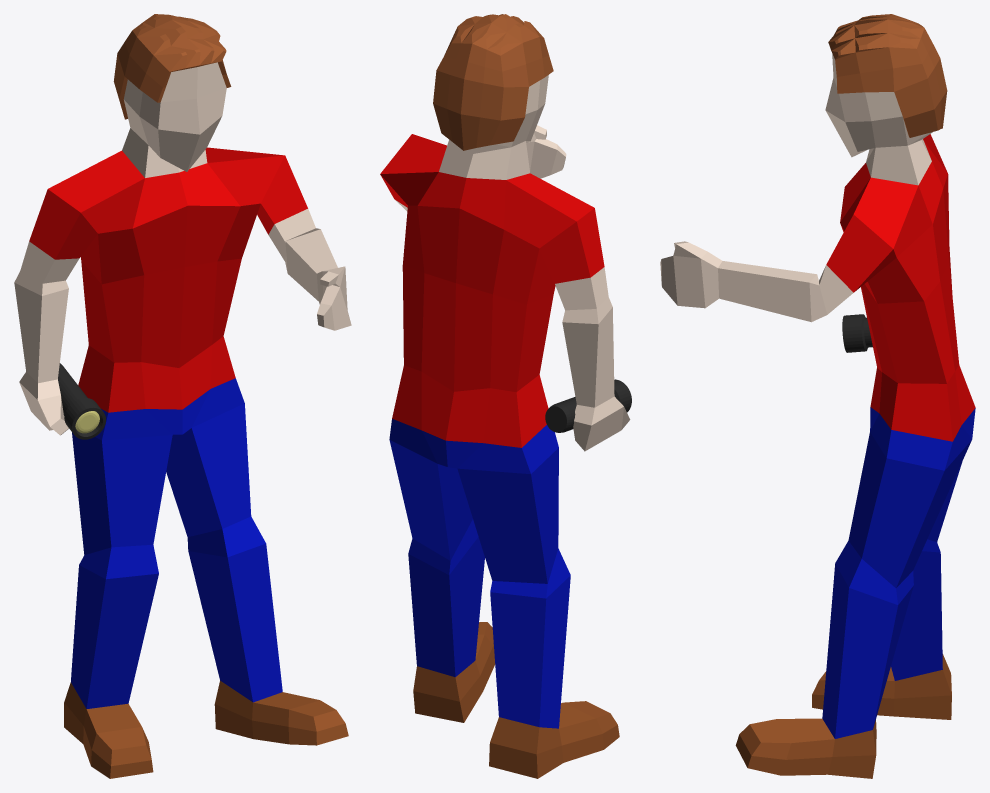
The model's file is Human_grabbing_19.fbx.
3 renders of one model, left to right at view 1: azimuth 30°, elevation 25°; view 2: azimuth 150°, elevation 25°; view 3: azimuth 270°, elevation 25°, orthographic.
Parts seen in each view (by area): view 1: Person.003, Cylinder.002; view 2: Person.003, Cylinder.002; view 3: Person.003, Cylinder.002.
Part boxes in pixels (x1,y1,x2,y2): Person.003: (14,14,351,778); Cylinder.002: (58,363,105,439); Person.003: (380,14,630,778); Cylinder.002: (545,379,631,432); Person.003: (660,14,975,778); Cylinder.002: (842,314,872,352).
Bounding box in the file's own units: 0.5698 × 1.57 × 0.6249.
